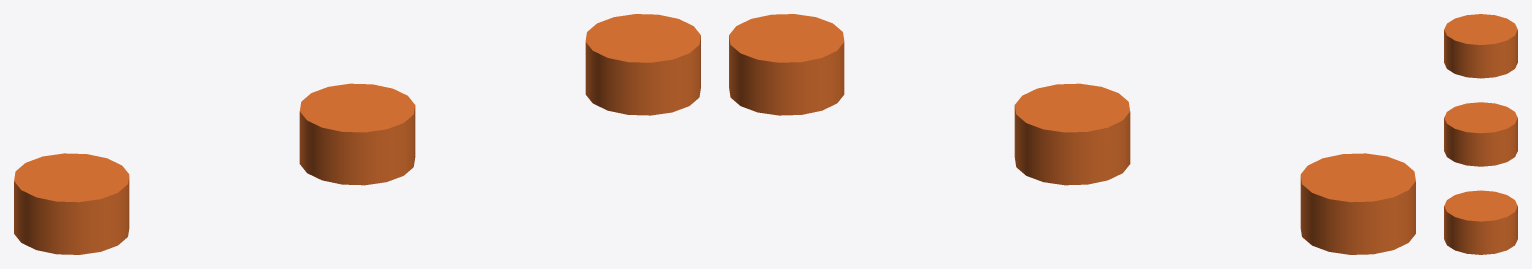
File: torso_13.obj
The picture shows the model from 3 angles, left to right: view 1: azimuth 30°, elevation 25°; view 2: azimuth 150°, elevation 25°; view 3: azimuth 270°, elevation 25°; orthographic projection. The views are drawn at different scales.
Size of the model in its own units: 80 by 6 by 12.
